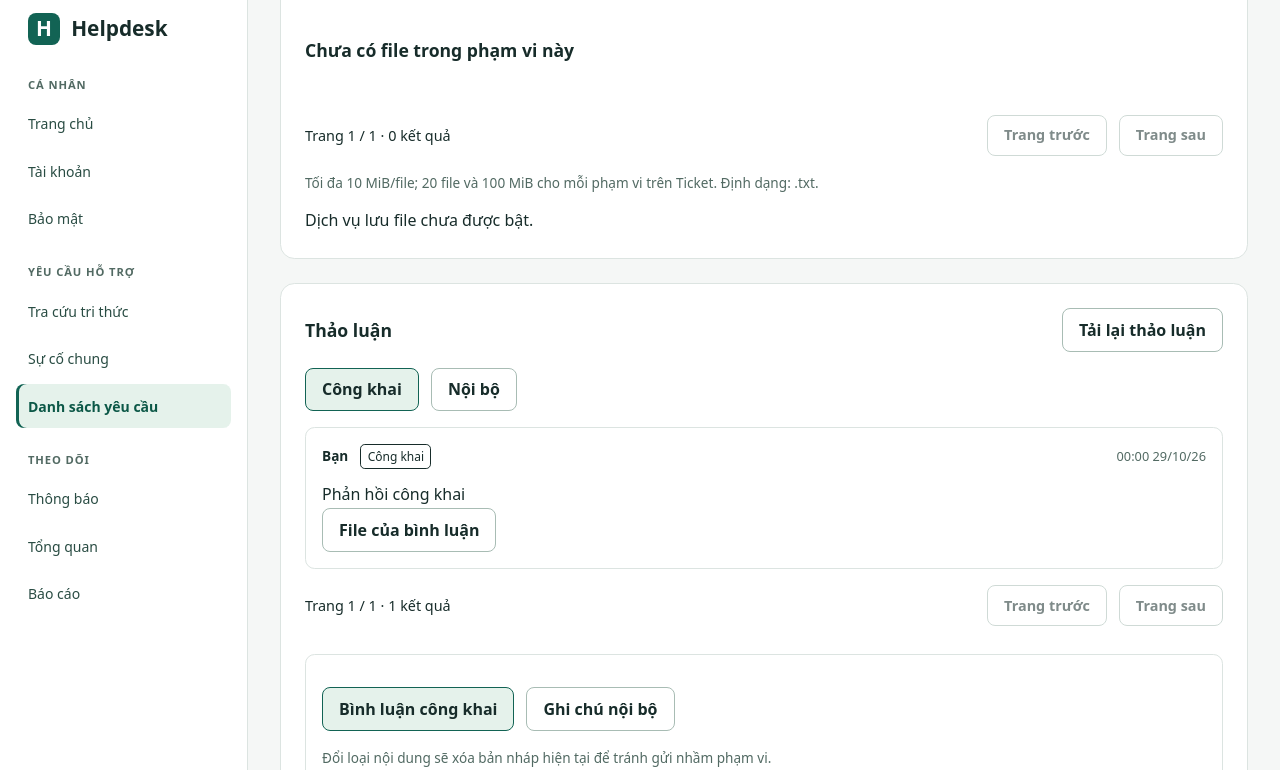
discussion ACL, visibility and cache isolation › fetches internal notes only after an authorized explicit selection
This screenshot has width=1280, height=770.
(page scrolled)
Expected: the text "Phản hồi công khai" is shown, [322, 483, 465, 505]
Expected: the text "private-note-marker" is not shown
Click the button "Nội bộ": (474, 390) [431, 368, 517, 411]
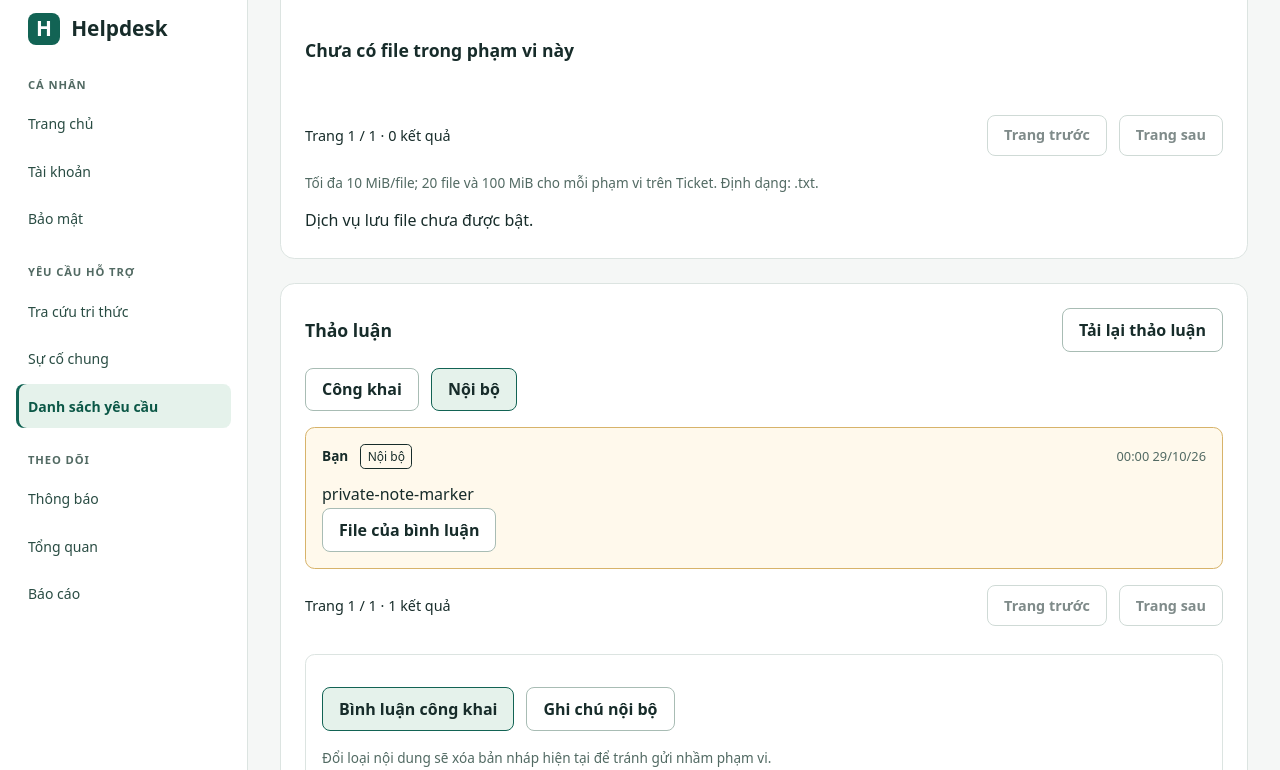
Expected: the text "private-note-marker" is shown, [322, 483, 474, 505]
